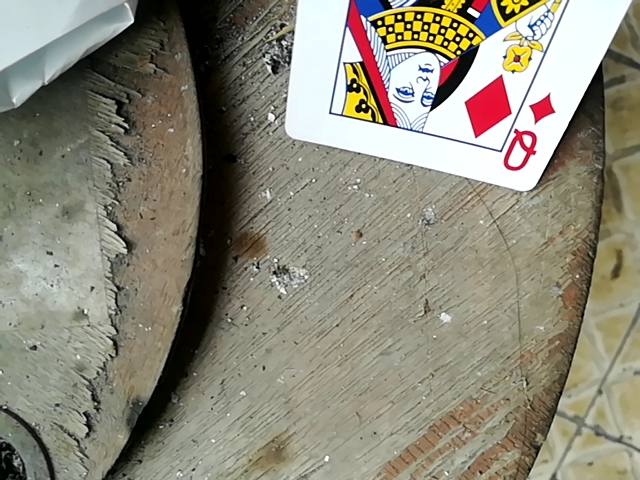fk q: (279, 0, 640, 194)
